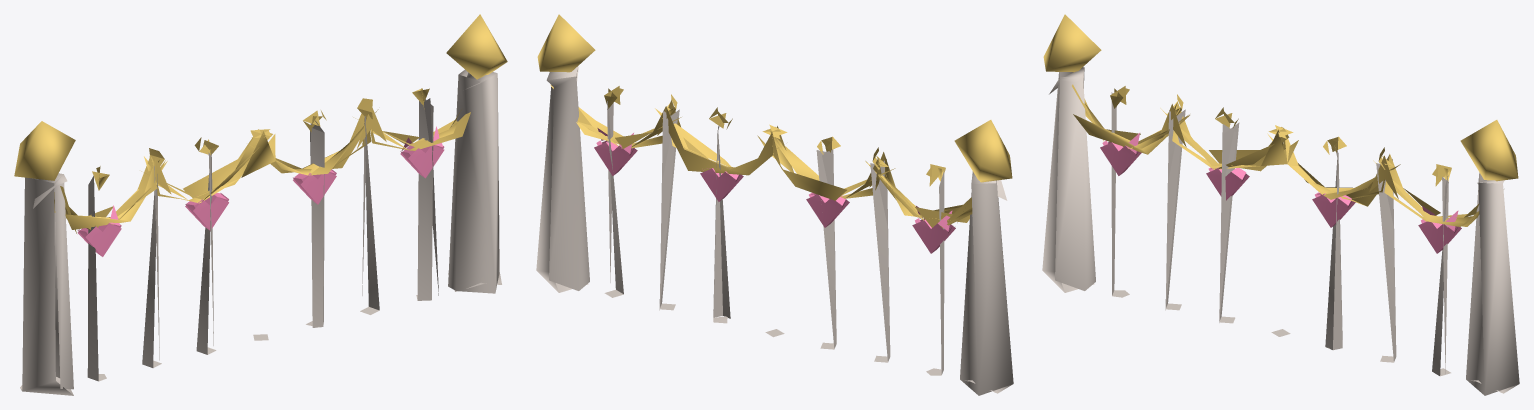
File: lod_fence_segment.glb
3 renders of one model, left to right at view 1: azimuth 30°, elevation 25°; view 2: azimuth 150°, elevation 25°; view 3: azimuth 330°, elevation 25°, orthographic.
Visible parts, largest first — view 1: fence_segment; view 2: fence_segment; view 3: fence_segment.
Boxes of the visible parts, box(x1,y1,x2,y2) form: fence_segment: box(14, 14, 507, 395); fence_segment: box(536, 14, 1013, 395); fence_segment: box(1042, 14, 1519, 395).
Bounding box in the file's own units: 2.15 × 1.14 × 0.2484.
